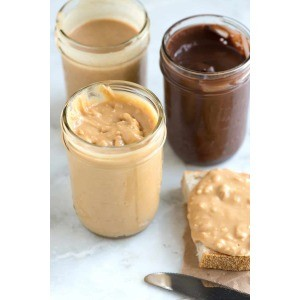peanut butter_brain food: (66, 88, 158, 239), (55, 10, 151, 69), (173, 18, 240, 74), (193, 177, 240, 253)
